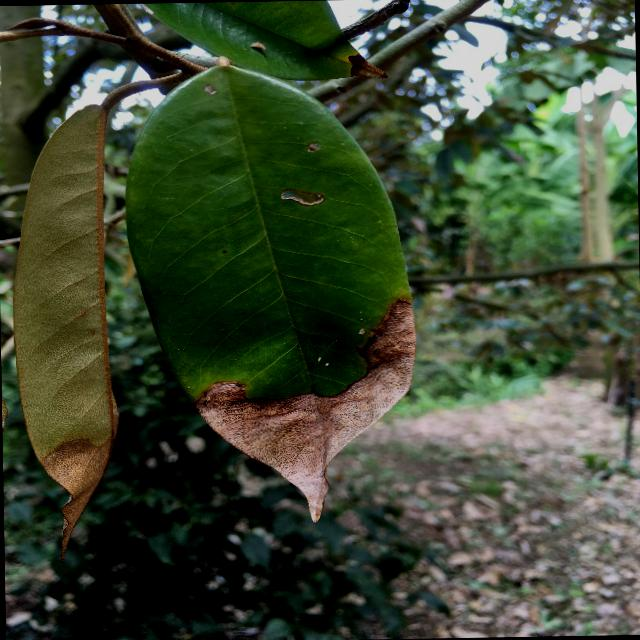Leaf Blight: (112, 44, 426, 532)
